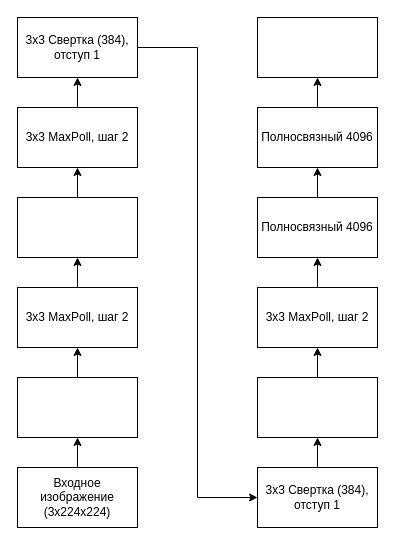
Some shapes in this 395 by 545 pixel diagram are drawn without their labels. The shapes that lost their labels are listed below. From the top down, each one's centre as x and y in pixels, then its label:
At point (317, 47): "Полносвязный 1000".
At point (77, 227): "5х5 Свертка (256), отступ 2".
At point (77, 407): "11х11 Свертка (96), шаг 4".
At point (317, 407): "3х3 Свертка (256), отступ 1".
